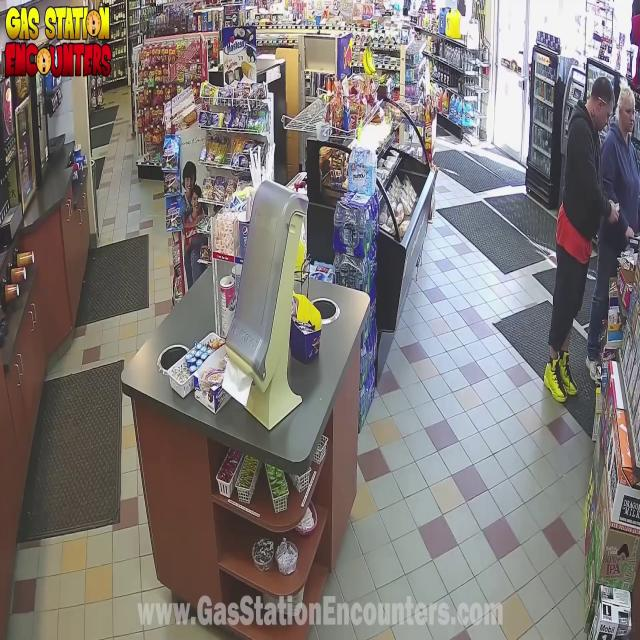normal: (526, 67, 622, 408), (593, 68, 640, 368)
